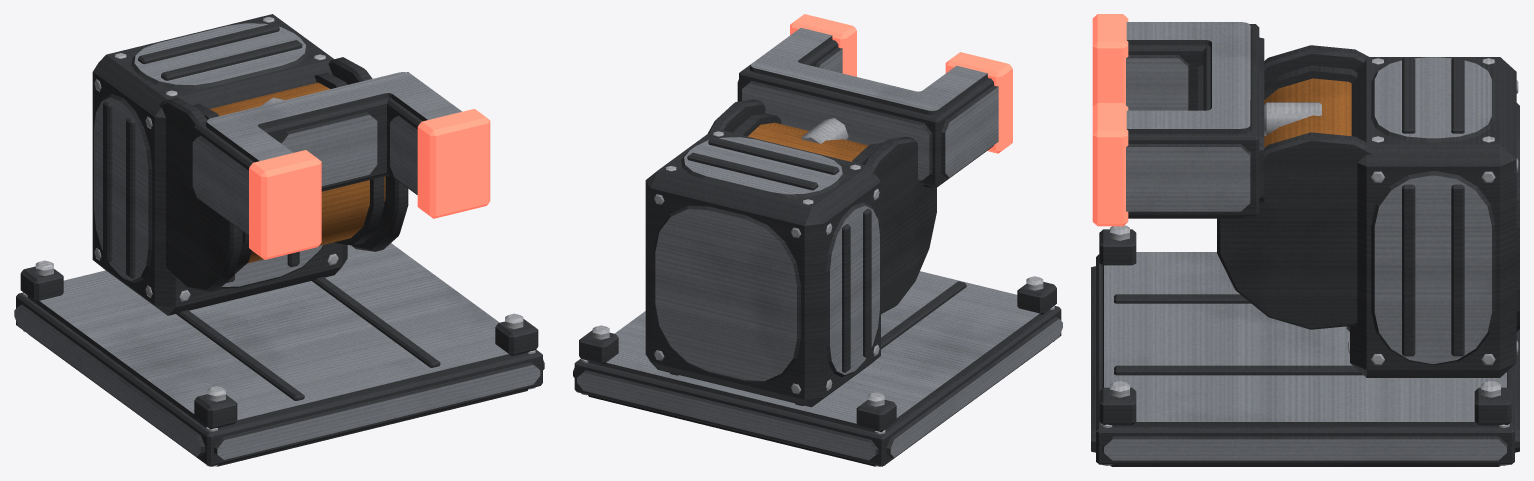
File: R4X_MagneticGrapple.glb
3 views of the same model, side by side, from view 1: azimuth 30°, elevation 25°; view 2: azimuth 150°, elevation 25°; view 3: azimuth 270°, elevation 25° (orthographic). The views are drawn at different scales.
Parts seen in each view (by area): view 1: R4X_MagneticGrapple_Body; view 2: R4X_MagneticGrapple_Body; view 3: R4X_MagneticGrapple_Body.
Part boxes in pixels (left/top/right/bottom): R4X_MagneticGrapple_Body: left=14, top=14, right=544, bottom=466; R4X_MagneticGrapple_Body: left=573, top=14, right=1062, bottom=466; R4X_MagneticGrapple_Body: left=1091, top=14, right=1519, bottom=466.
Size of the model in its own units: 0.52 by 0.414 by 0.52.
Materials: 5 (4 with a texture image).
